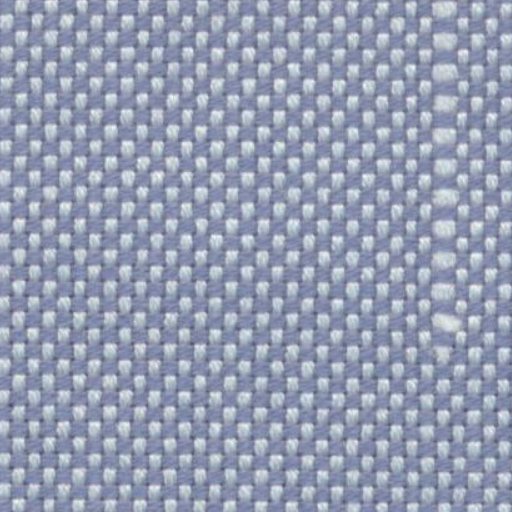TuoSha: (406, 10, 488, 350)
